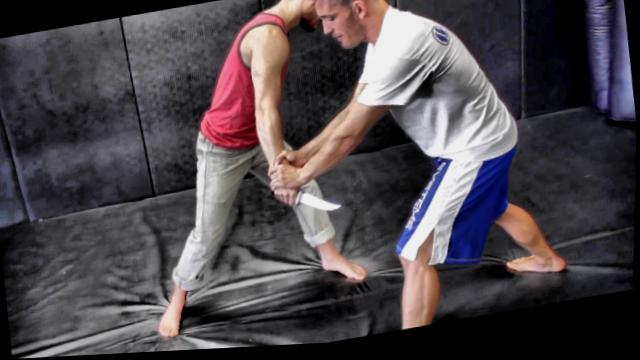knife: (268, 180, 347, 227)
